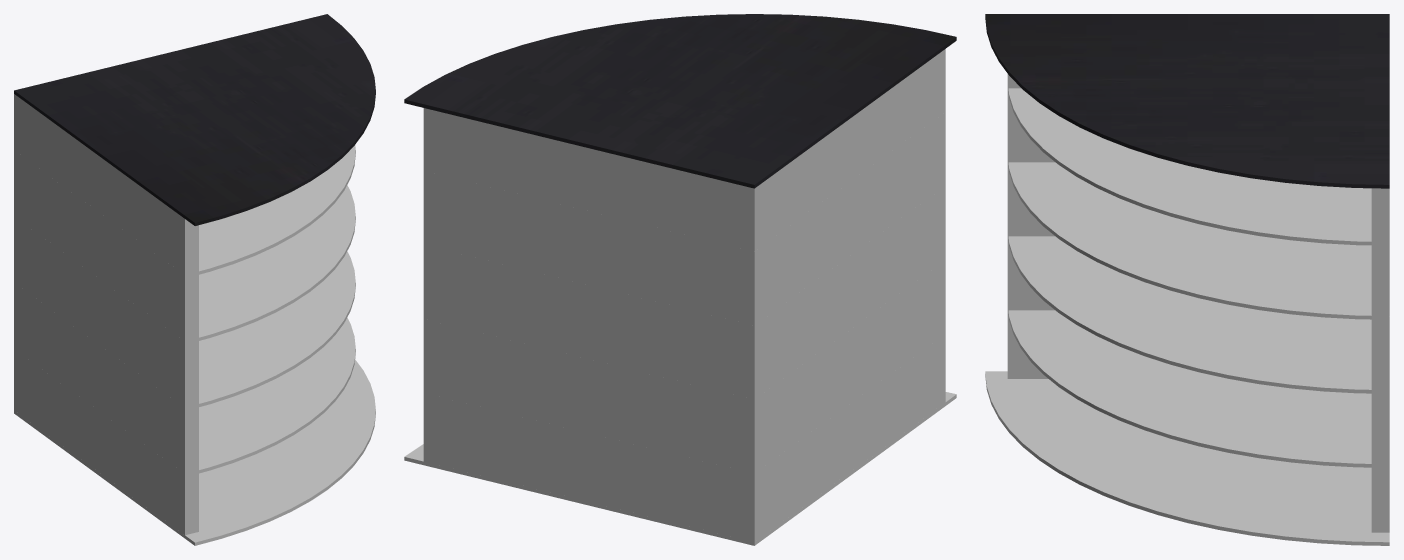
The model's file is sh-lp-angolo198-w.glb.
3 renders of one model, left to right at view 1: azimuth 30°, elevation 25°; view 2: azimuth 150°, elevation 25°; view 3: azimuth 270°, elevation 25°, orthographic. The views are drawn at different scales.
Parts seen in each view (by area): view 1: Line17_6, Cylinder52_1, Cylinder56_5; view 2: Line17_6, Cylinder56_5, Cylinder52_1; view 3: Cylinder52_1, Cylinder56_5, Line17_6.
Part boxes in pixels (<box>): Line17_6: <box>14,94,198,535</box>; Cylinder52_1: <box>14,145,375,545</box>; Cylinder56_5: <box>14,14,375,225</box>; Line17_6: <box>423,49,945,542</box>; Cylinder56_5: <box>404,14,956,188</box>; Cylinder52_1: <box>404,112,956,545</box>; Cylinder52_1: <box>985,88,1389,545</box>; Cylinder56_5: <box>985,14,1389,188</box>; Line17_6: <box>1007,74,1389,532</box>.
Size of the model in its own units: 1 by 1 by 1.
Materials: 3 (1 with a texture image).
